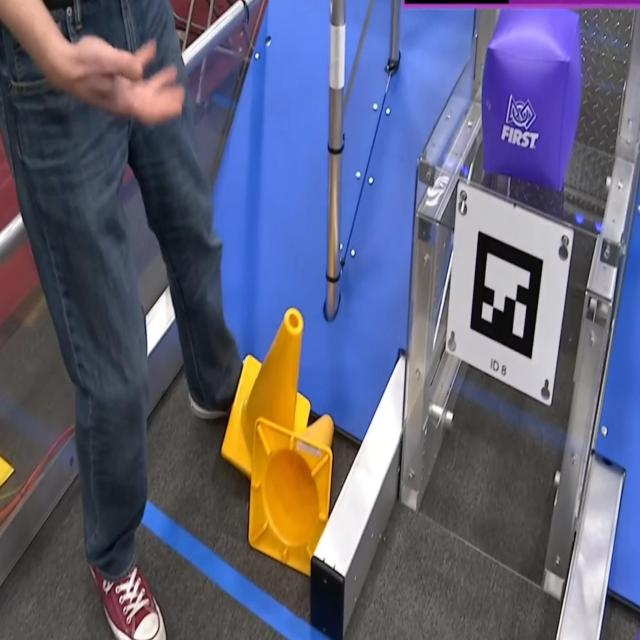frc_cone: (223, 307, 307, 478), (248, 409, 334, 569)
frc_cube: (483, 0, 580, 191)
